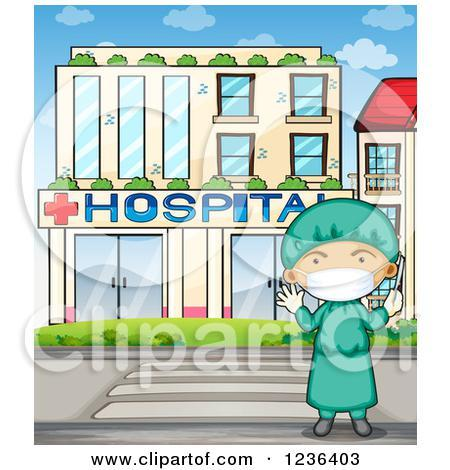person: (269, 191, 407, 440)
